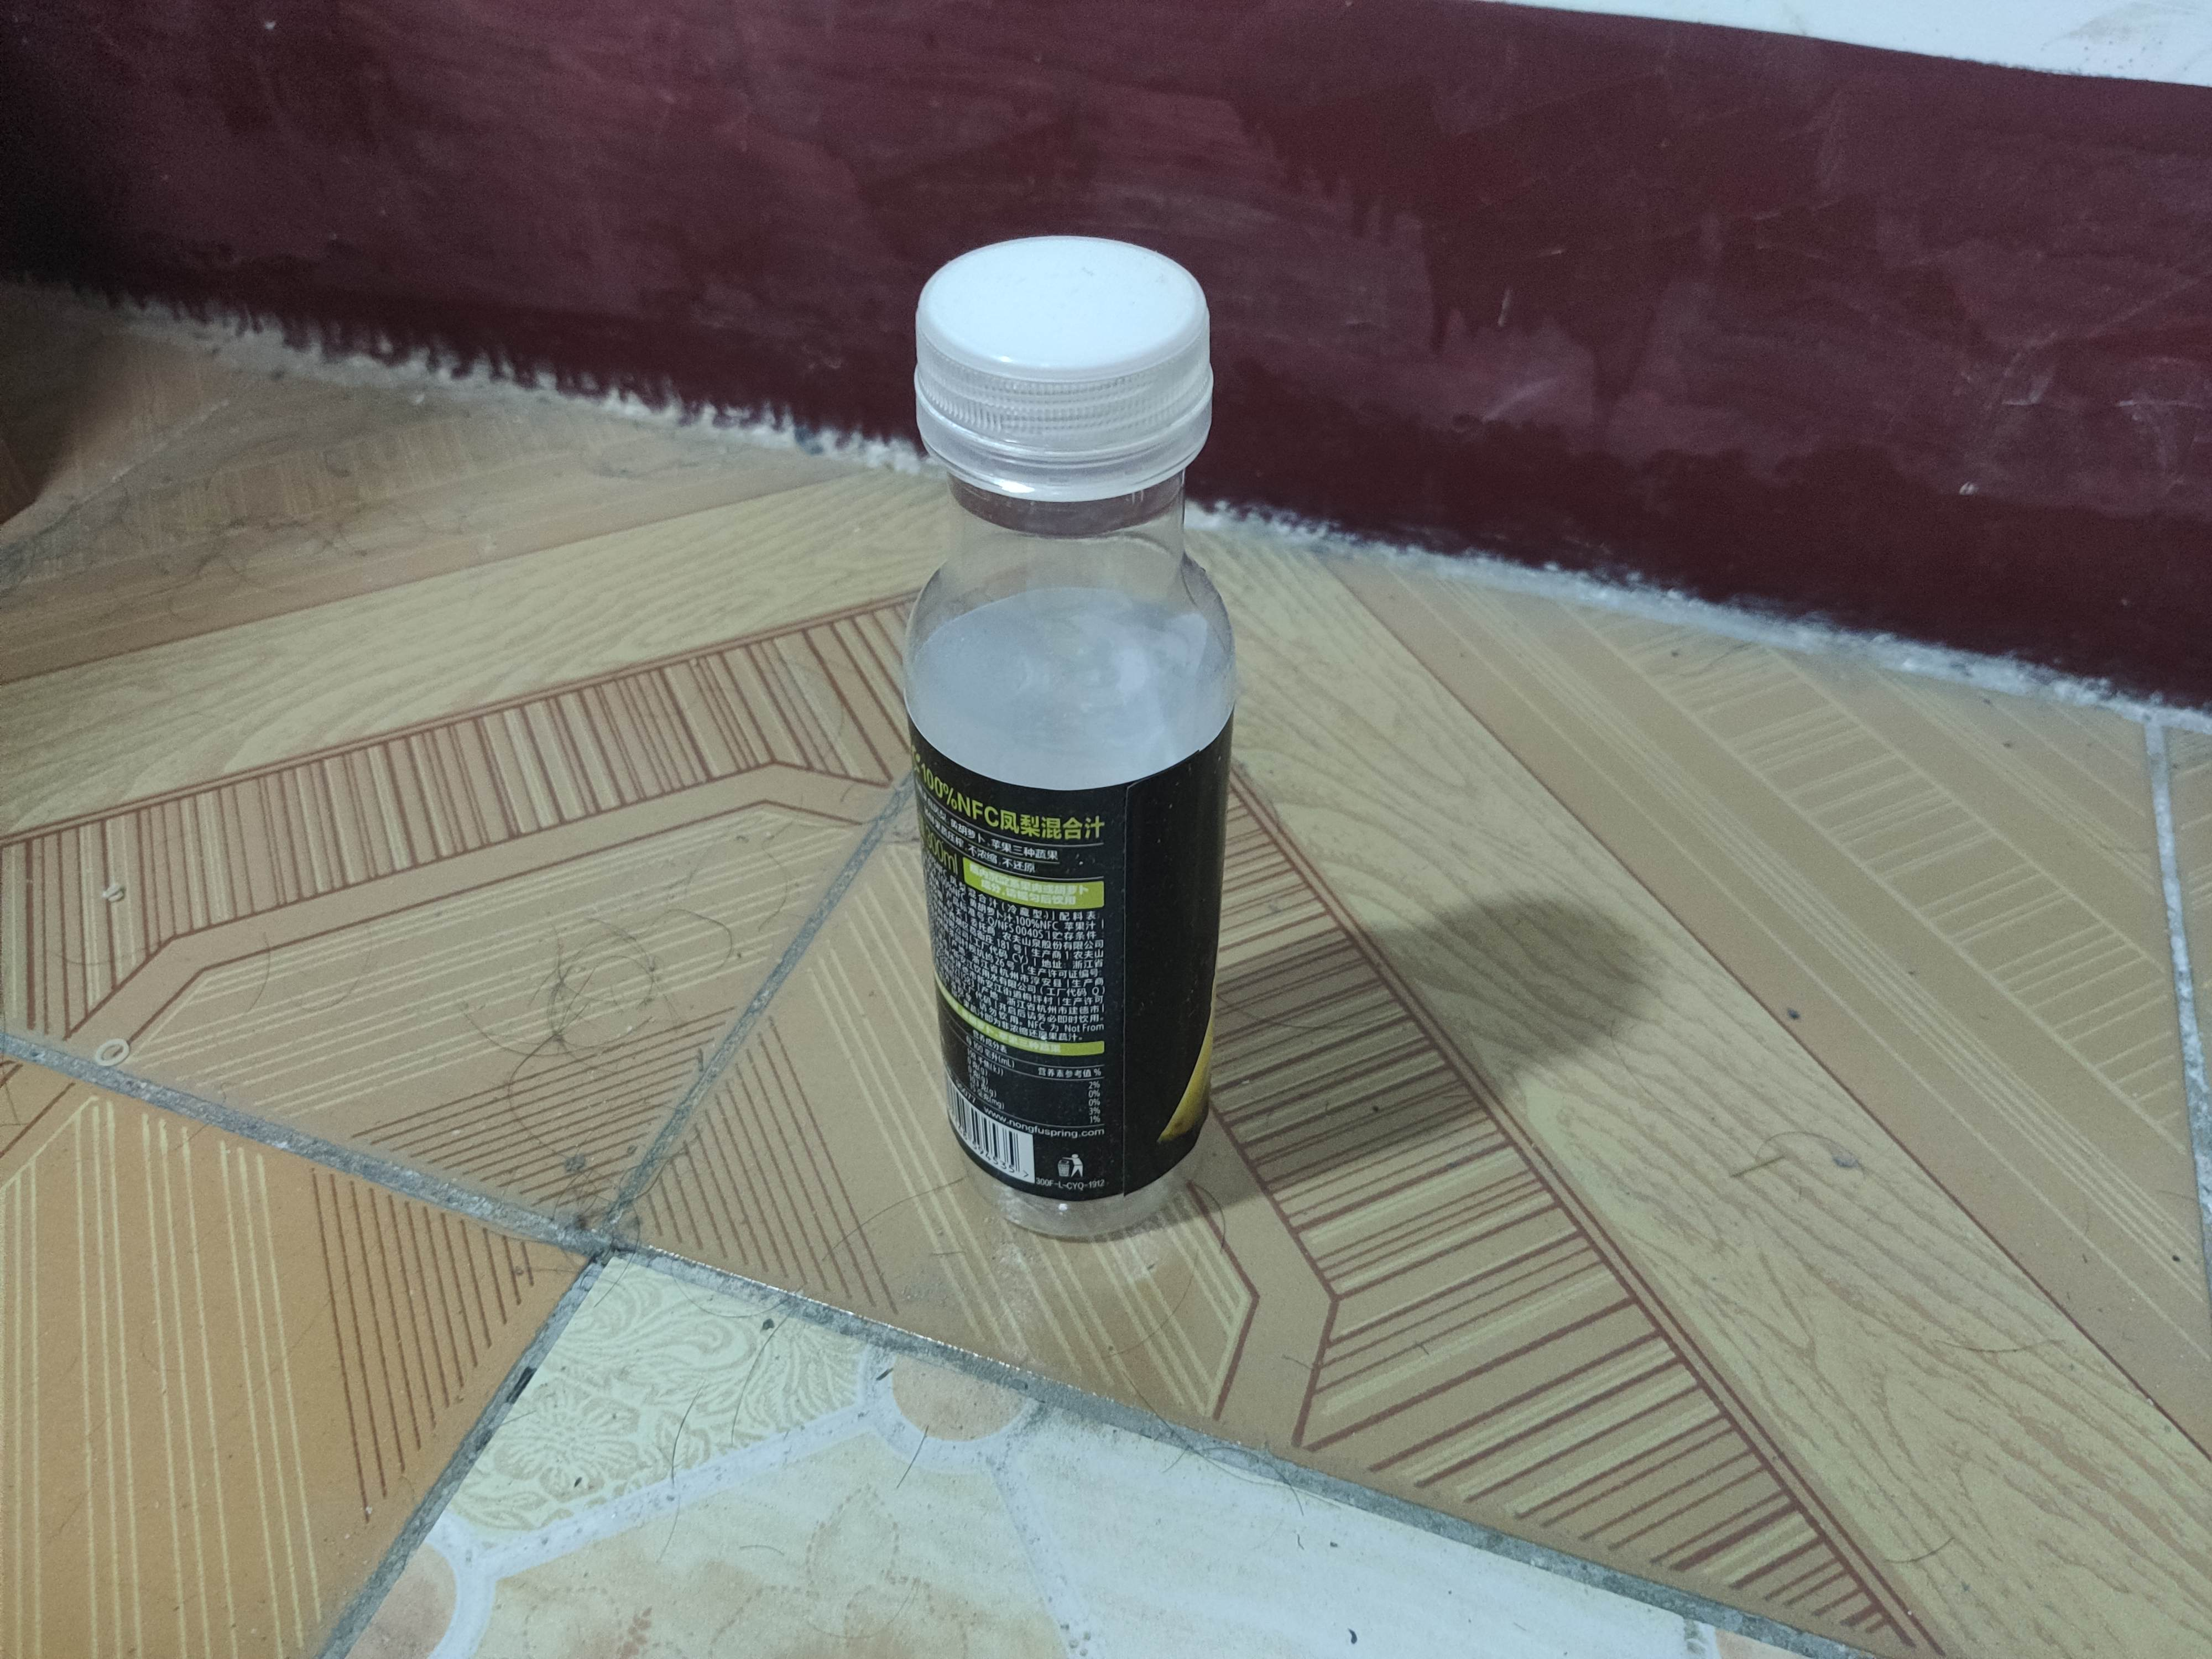Plastic Bottle: (892, 225, 1247, 1246)
